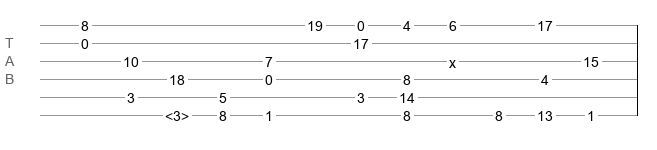0: (81, 36, 89, 46), (265, 72, 273, 82), (357, 18, 365, 28)
1: (265, 108, 273, 118), (587, 108, 595, 118)
10: (123, 54, 139, 64)
13: (537, 108, 553, 118)
14: (399, 90, 415, 100)
15: (583, 54, 599, 64)
17: (353, 36, 369, 46), (537, 18, 553, 28)
18: (169, 72, 185, 82)
19: (307, 18, 323, 28)
3: (127, 90, 135, 100), (357, 90, 365, 100)
4: (403, 18, 411, 28), (541, 72, 549, 82)
5: (219, 90, 227, 100)
6: (449, 18, 457, 28)
7: (265, 54, 273, 64)
8: (81, 18, 89, 28), (219, 108, 227, 118), (403, 72, 411, 82), (403, 108, 411, 118), (495, 108, 503, 118)
harmonic: (165, 108, 189, 118)
x: (449, 55, 456, 63)
